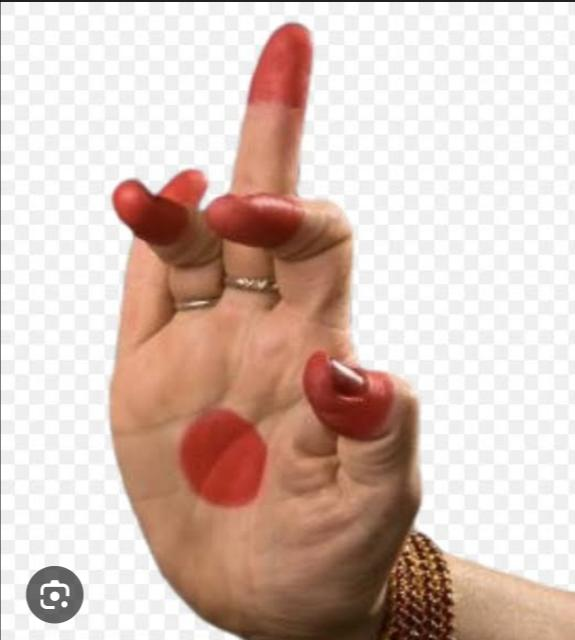shuktund: (108, 25, 419, 633)
